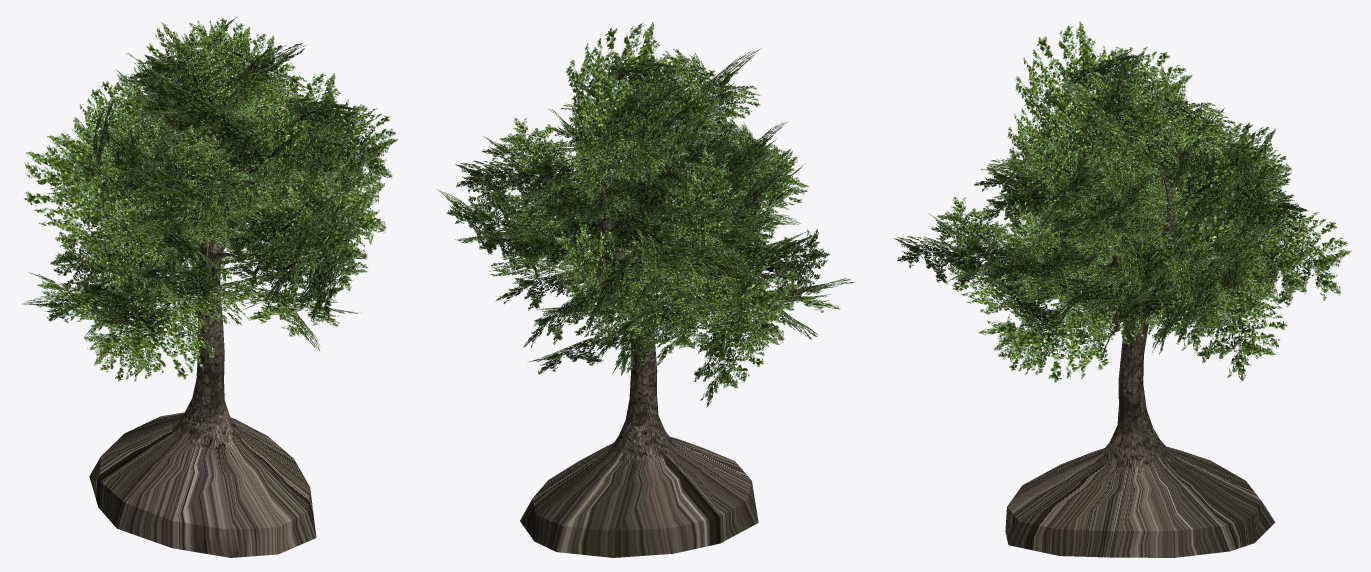
Rendered from tree05.glb.
The picture shows the model from 3 angles, left to right: view 1: azimuth 30°, elevation 25°; view 2: azimuth 150°, elevation 25°; view 3: azimuth 270°, elevation 25°; orthographic projection. The views are drawn at different scales.
Visible parts, largest first — view 1: Plane.002, Plane.001, Trunk, Plane.003, Plane.004; view 2: Plane.001, Plane.002, Trunk, Plane.004, Plane.003; view 3: Plane.001, Plane.002, Trunk, Plane.004, Plane.003.
Part boxes in pixels (x1,y1,x2,y2): Plane.002: (23, 28, 397, 381); Plane.001: (23, 15, 392, 350); Trunk: (89, 120, 316, 557); Plane.003: (72, 67, 362, 337); Plane.004: (59, 55, 326, 308); Plane.001: (437, 22, 804, 407); Plane.002: (491, 45, 855, 375); Trunk: (520, 162, 758, 557); Plane.004: (477, 73, 772, 345); Plane.003: (501, 74, 806, 350); Plane.001: (946, 52, 1351, 382); Plane.002: (893, 21, 1287, 382); Trunk: (1005, 168, 1275, 557); Plane.004: (1017, 87, 1291, 345); Plane.003: (984, 77, 1256, 320).
Size of the model in its own units: 16.97 by 19.94 by 17.8.
2 materials, 2 textured.
